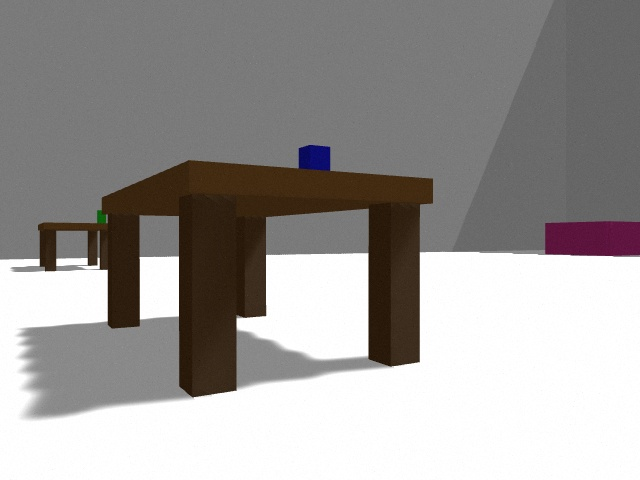blue_cube: (299, 145, 330, 171)
green_cube: (97, 210, 106, 223)
red_drop_zone: (545, 221, 640, 256)
